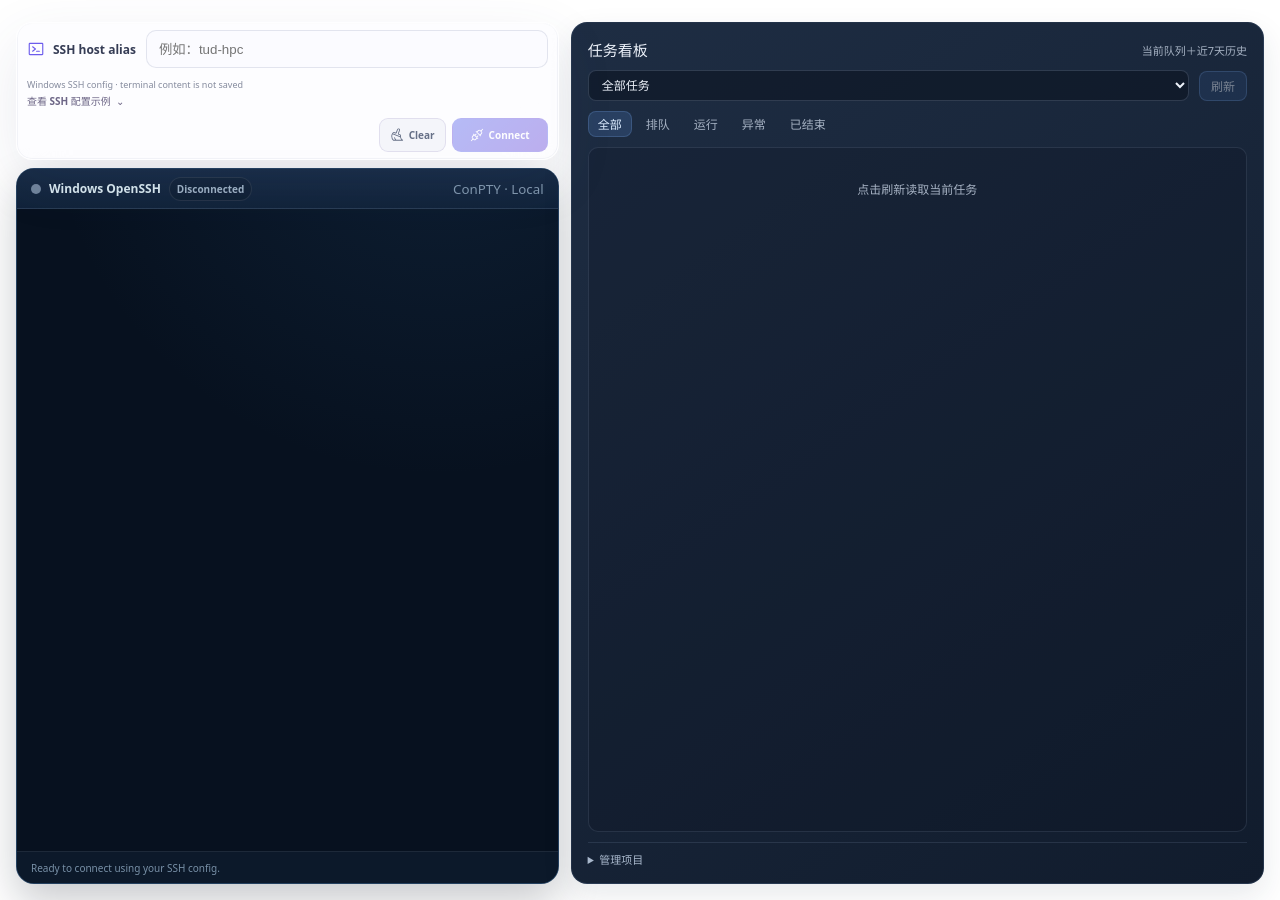
Test case: HpcPage › shows one task board whose refresh does not type into the interactive terminal
The width and height of the screenshot is (1280, 900).
Type "tud-hpc" into the field labelled "SSH host alias".
click(347, 49); type("tud-hpc")  # box [146,30,548,68]
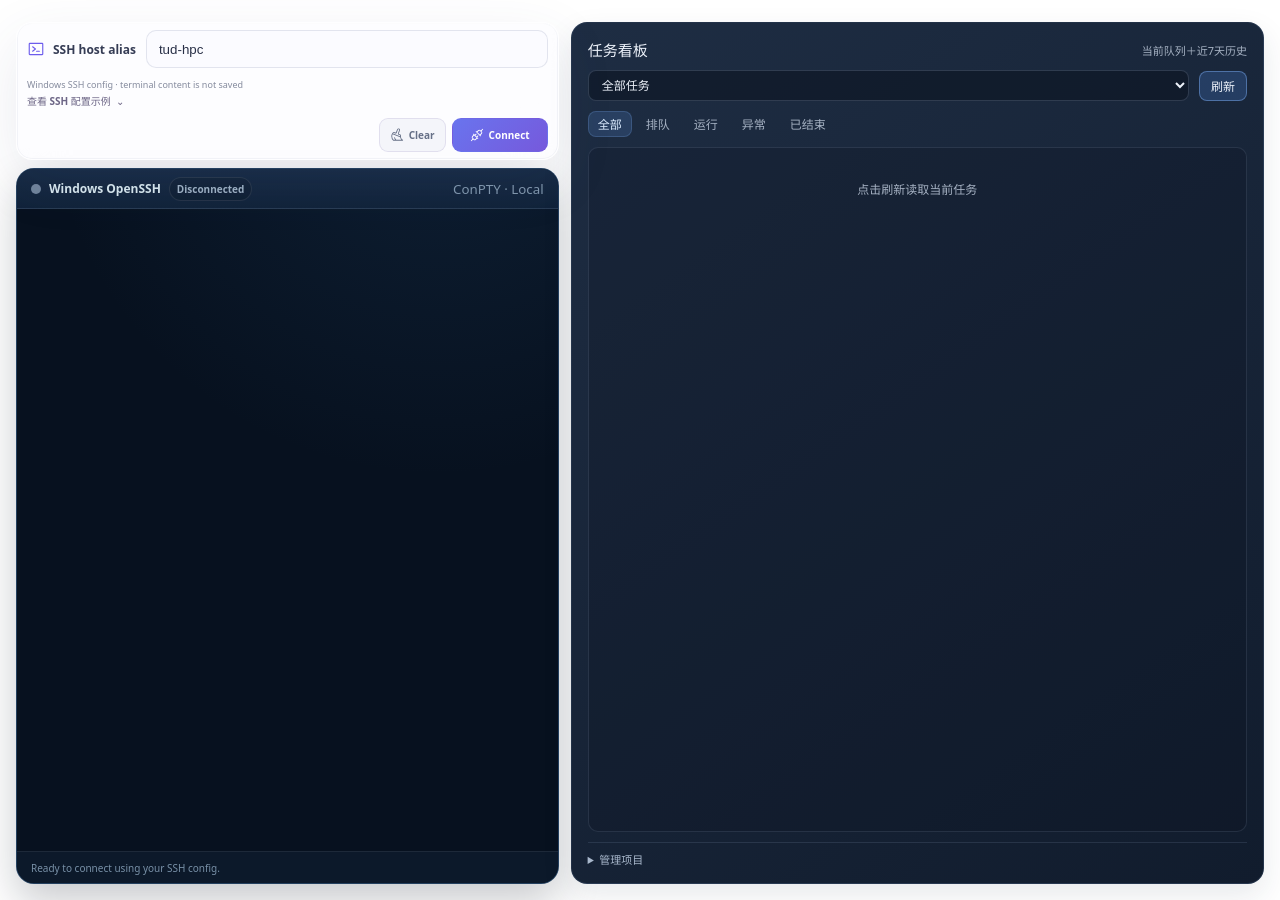
Expected: the number of headings "任务看板" is 1, [588,39,648,60]
Click the button "刷新".
click(1223, 86)  # box [1199,70,1247,100]
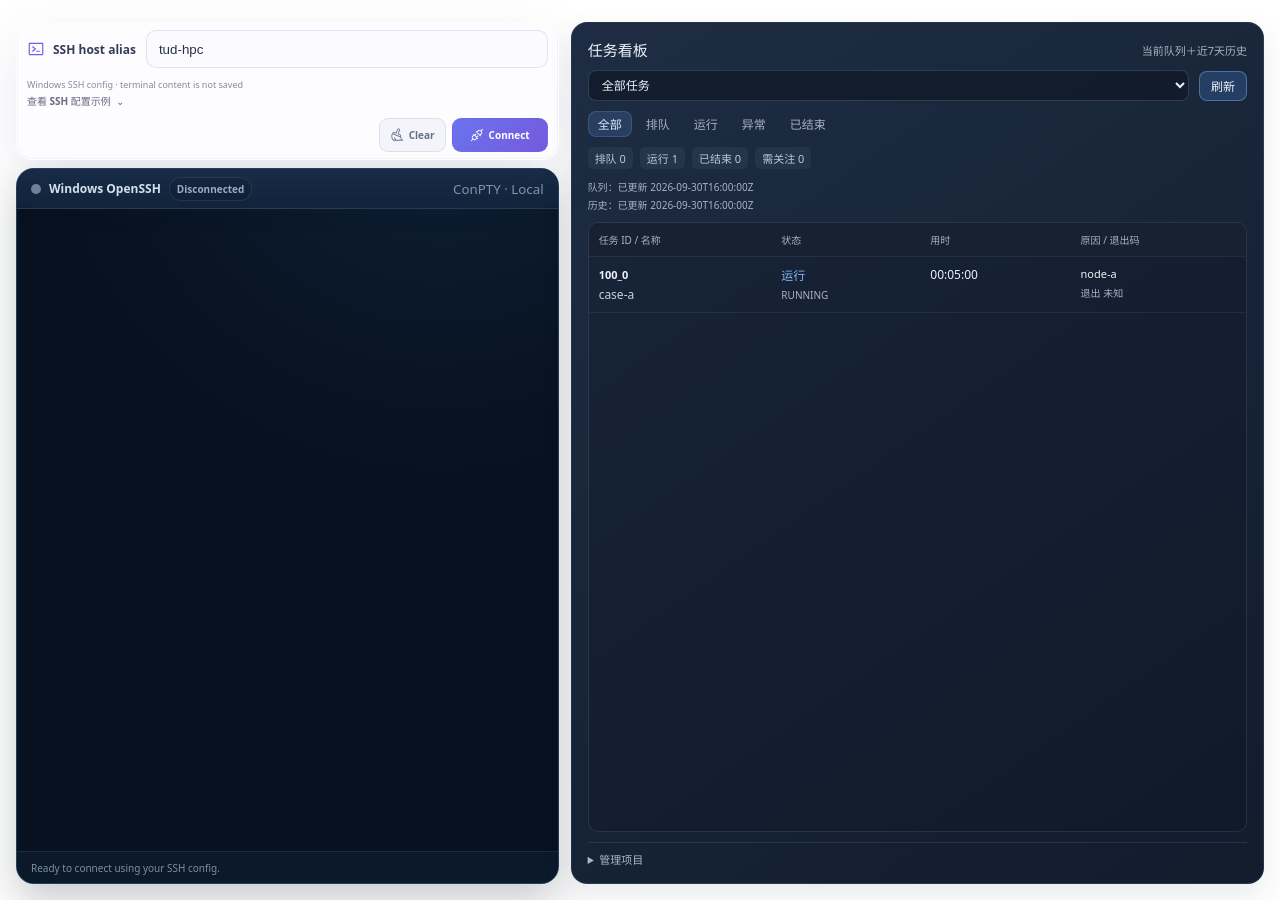
Now the text "case-a" is shown, box [599,286,634,303]
